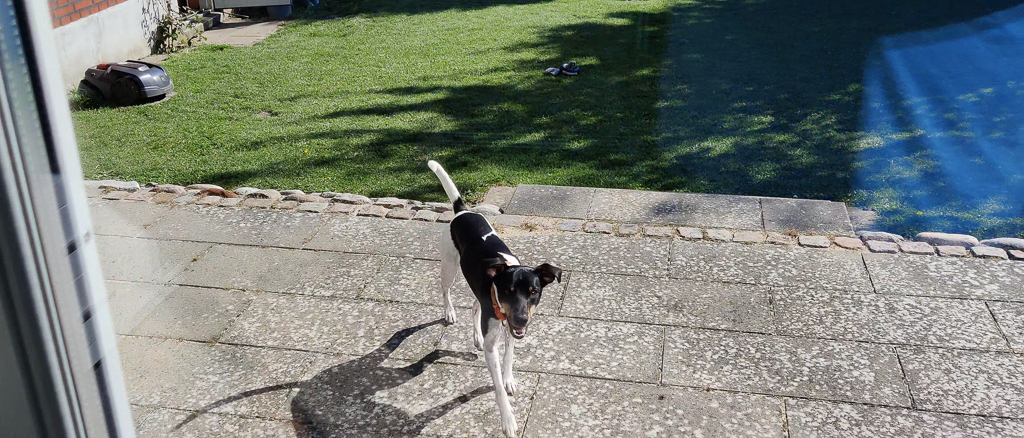Dog: (418, 148, 574, 438)
